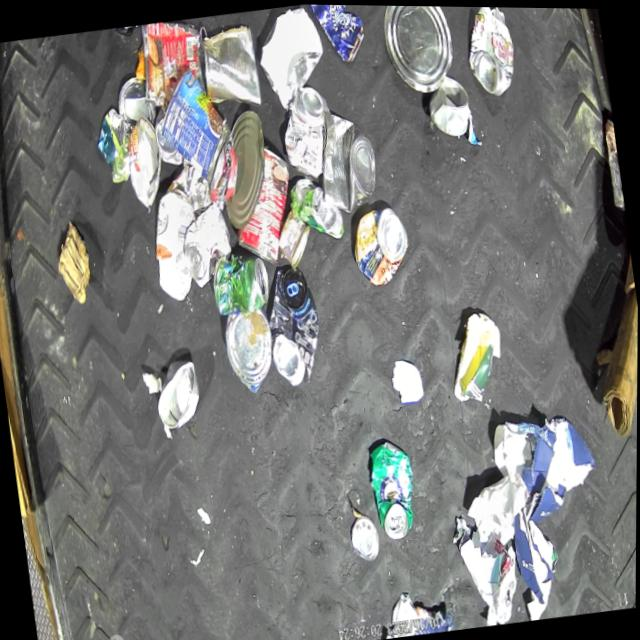can: (153, 62, 239, 189), (223, 141, 301, 267), (259, 264, 327, 388), (310, 103, 382, 215), (375, 4, 458, 97), (212, 107, 275, 229), (134, 16, 208, 106), (276, 82, 338, 181), (196, 21, 262, 113), (365, 436, 422, 542), (459, 5, 520, 98), (348, 202, 413, 288), (178, 199, 237, 289), (220, 307, 279, 396), (210, 248, 274, 316), (123, 112, 167, 209), (288, 171, 346, 243), (151, 358, 205, 433), (307, 4, 368, 68), (423, 69, 474, 137), (273, 206, 315, 268), (600, 115, 626, 211), (114, 73, 157, 128), (152, 105, 183, 168), (348, 513, 381, 561)
